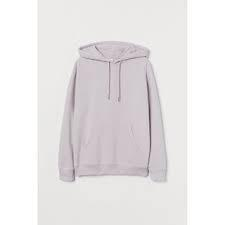sweater: (50, 38, 173, 195)
